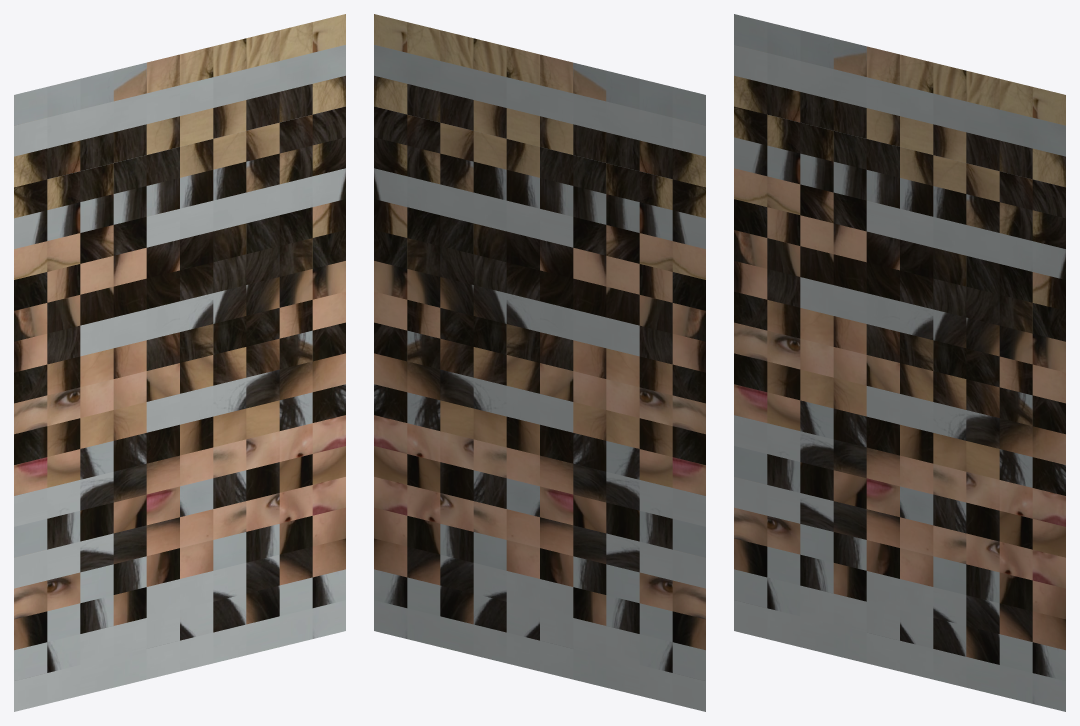
File: UvFuckery.fbx
3 views of the same model, side by side, from view 1: azimuth 30°, elevation 25°; view 2: azimuth 150°, elevation 25°; view 3: azimuth 330°, elevation 25° (orthographic).
Visible parts, largest first — view 1: Plane_1; view 2: Plane_1; view 3: Plane_1.
Part boxes in pixels (<box>): Plane_1: <box>14,14,345,711</box>; Plane_1: <box>374,14,705,711</box>; Plane_1: <box>734,14,1065,711</box>.
Size of the model in its own units: 720 by 1280 by 3.63e-13.
1 material, 1 textured.
